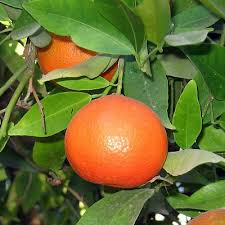orange: (68, 93, 170, 192)
